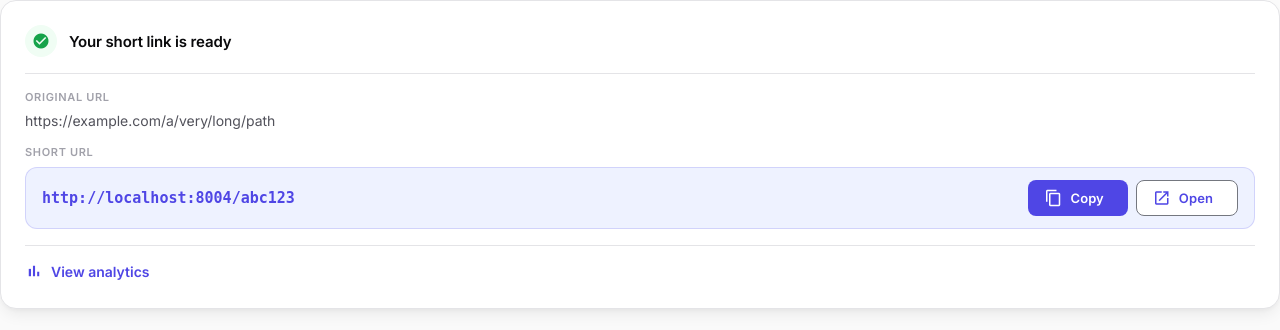
Scenario: UrlResultCardComponent › shows "Copied!" feedback after a successful copy
The width and height of the screenshot is (1280, 330).
Click the button with class "result__copy": click(1078, 198) [1028,180,1128,216]
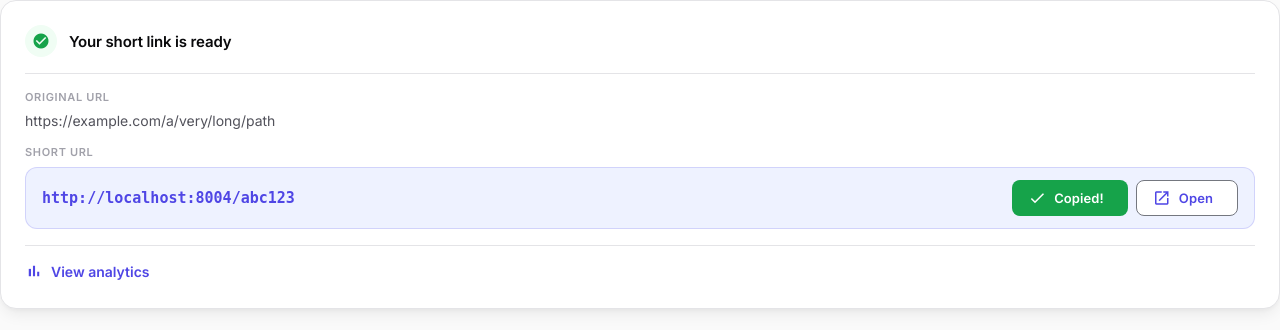
Expected: the button with class "result__copy" reads "Copied!", [1012,180,1128,216]
